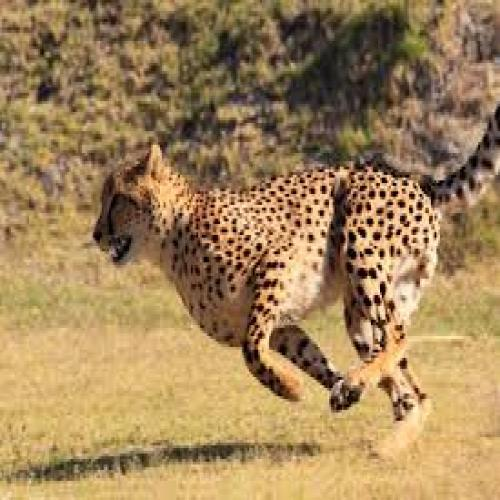cheetah-endangered: (85, 122, 496, 438)
